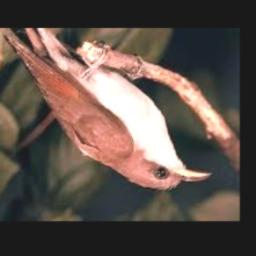Cuckoo: (2, 34, 212, 190)
